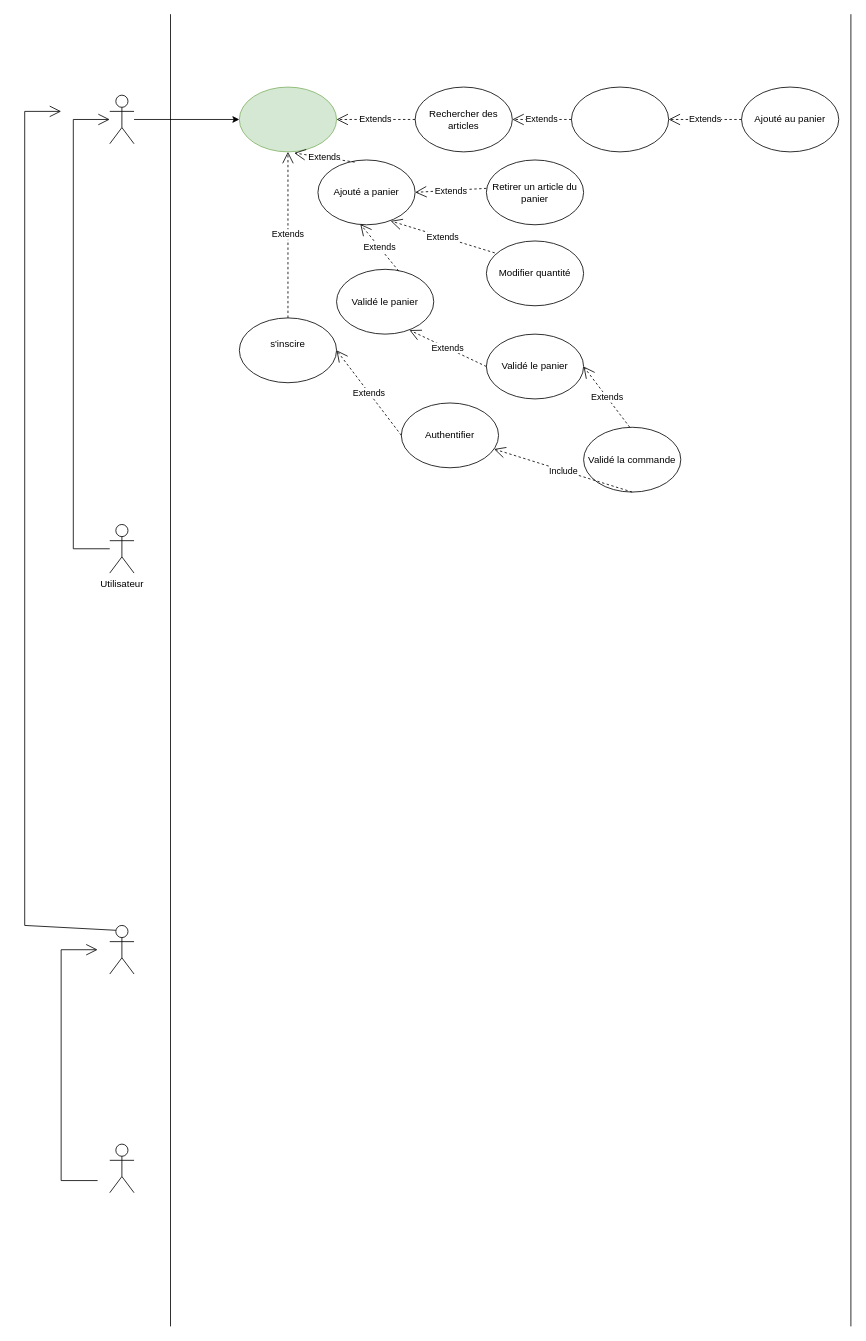
The diagram is 866 pixels wide and 1341 high, and some of its shapes have lost their labels. The shapes that lost their labels are listed below. From the top down, each one's centre as x and y in pixels, then its label:
(x=121, y=119): Visiteur
(x=288, y=119): Afficher page d'acceuil
(x=620, y=119): afficher les detail article
(x=121, y=949): Magasiner
(x=121, y=1168): Admin
